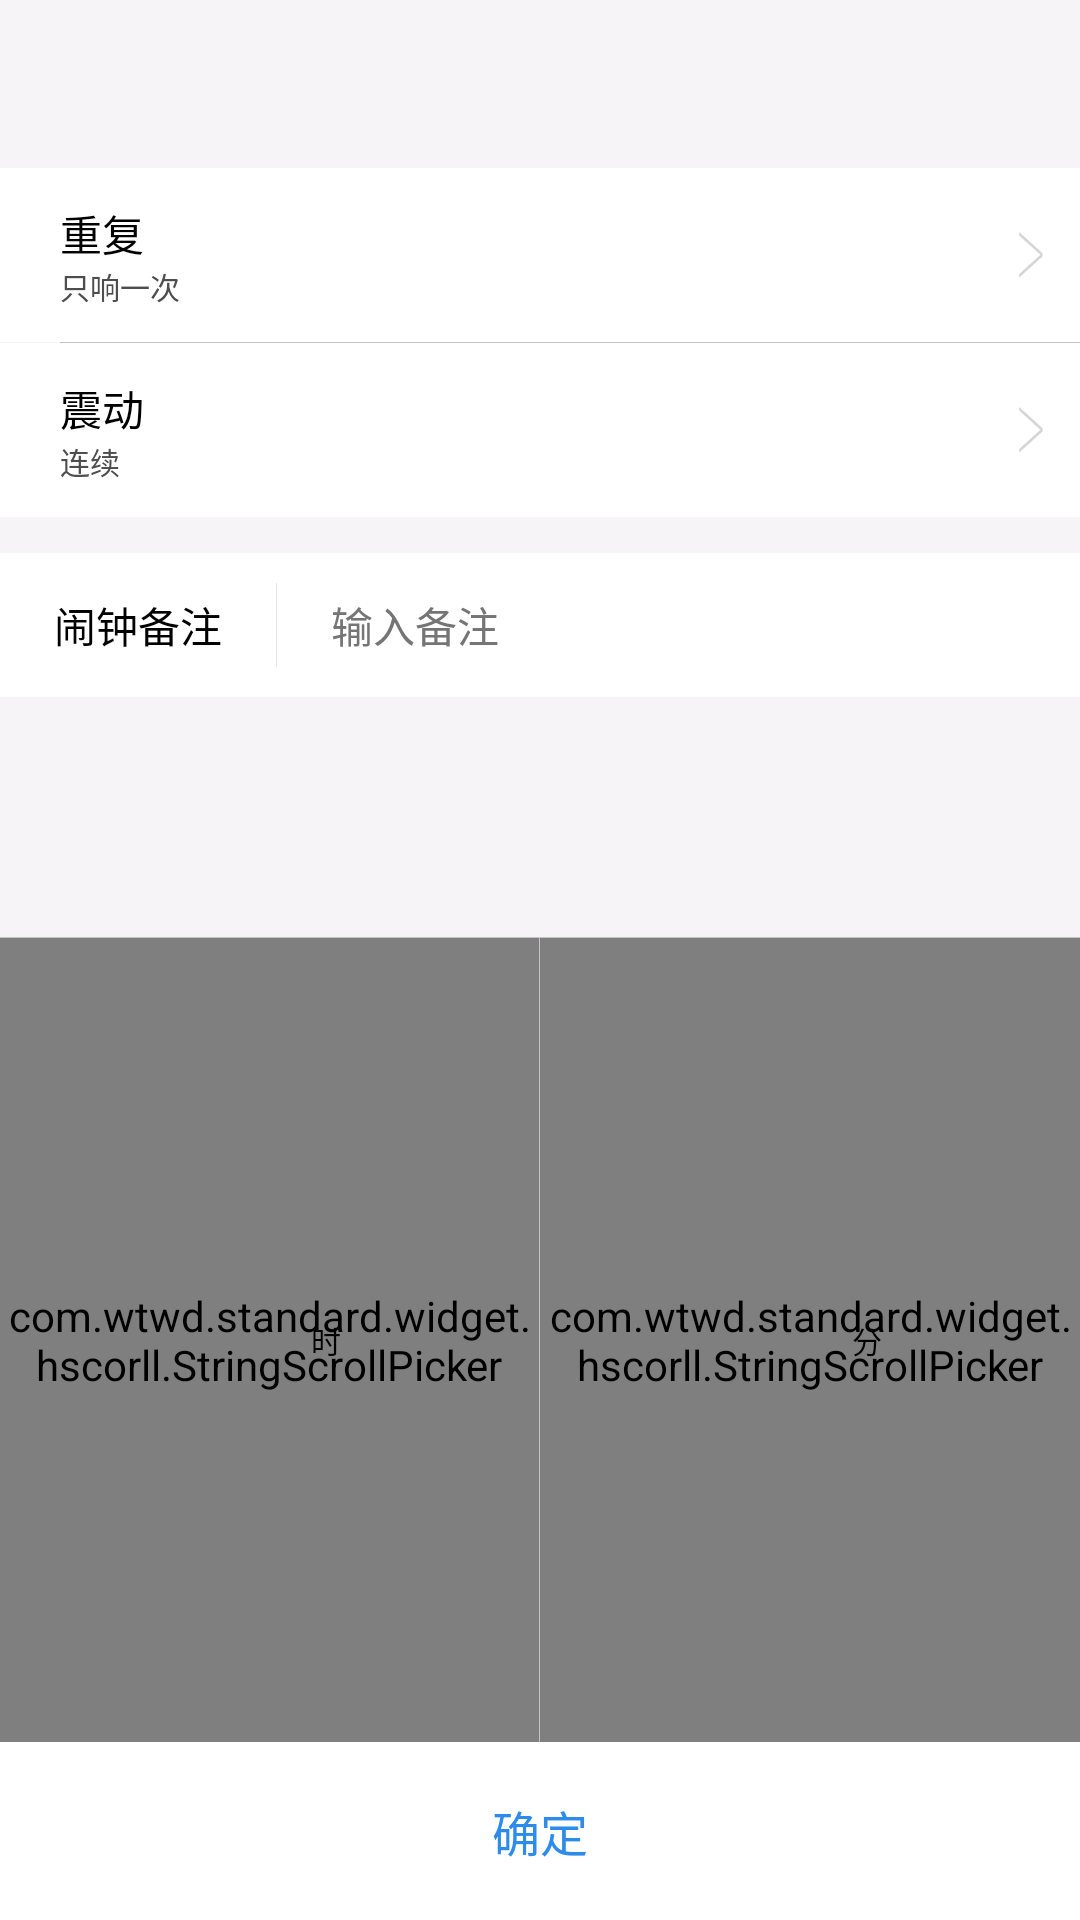

Locate icon controls on the screen. Image size 1080x1920, boxes as rect(x1, y1, x2, y2).
arrow right: rect(1019, 233, 1042, 277), rect(1019, 408, 1042, 452)
